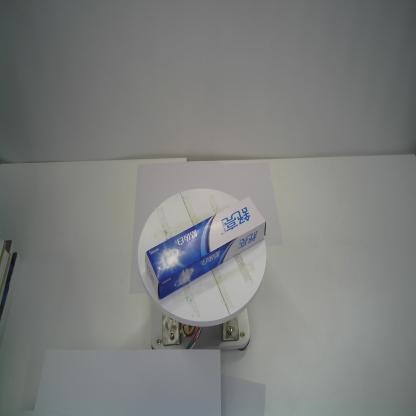Personal Hygiene: (145, 196, 267, 302)
